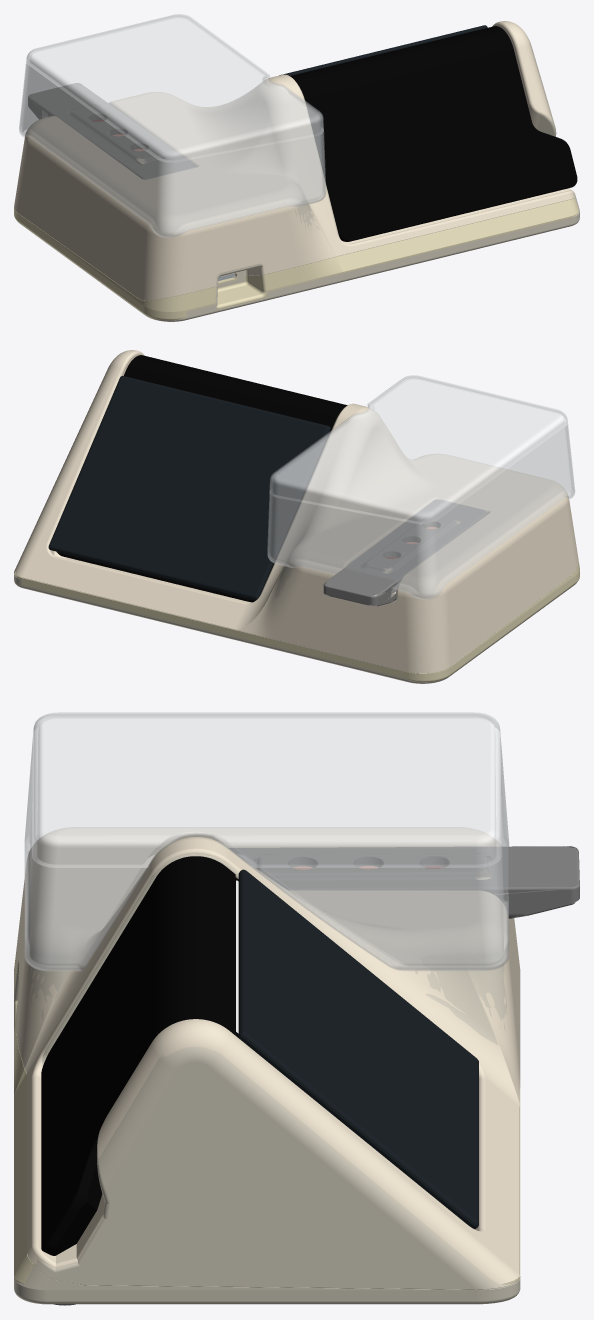
Rendered from sangre-display.glb.
3 renders of one model, top to bottom at view 1: azimuth 30°, elevation 25°; view 2: azimuth 150°, elevation 25°; view 3: azimuth 270°, elevation 25°, orthographic. The views are drawn at different scales.
Parts seen in each view (by area): view 1: outer-shell, internal-storage-cover, exterior-12, storage-lid, storage-tray, base-shell, exterior-20, test-strip-4, internal-lower-shell, internal-upper-shell, display-upper-bezel; view 2: outer-shell, internal-storage-cover, display-upper-bezel, storage-lid, storage-tray, test-strip-4, exterior-20, base-shell, internal-lower-shell, display-lower-bezel, internal-upper-shell; view 3: internal-storage-cover, outer-shell, storage-lid, internal-upper-shell, display-upper-bezel, storage-tray, exterior-12, test-strip-4, exterior-20, internal-lower-shell, base-shell, exterior-10.
Boxes of the visible parts, bbox=[...] form: outer-shell: bbox=[14, 21, 574, 300]; internal-storage-cover: bbox=[20, 14, 325, 236]; exterior-12: bbox=[307, 57, 577, 241]; storage-lid: bbox=[26, 15, 322, 162]; storage-tray: bbox=[19, 60, 325, 237]; base-shell: bbox=[14, 198, 578, 320]; exterior-20: bbox=[290, 26, 515, 107]; test-strip-4: bbox=[28, 83, 195, 179]; internal-lower-shell: bbox=[17, 199, 579, 321]; internal-upper-shell: bbox=[216, 40, 576, 287]; display-upper-bezel: bbox=[279, 25, 487, 75]; outer-shell: bbox=[15, 350, 578, 673]; internal-storage-cover: bbox=[267, 375, 574, 598]; display-upper-bezel: bbox=[48, 376, 330, 600]; storage-lid: bbox=[270, 376, 567, 523]; storage-tray: bbox=[268, 422, 574, 599]; test-strip-4: bbox=[323, 500, 487, 606]; exterior-20: bbox=[124, 355, 347, 428]; base-shell: bbox=[15, 559, 579, 681]; internal-lower-shell: bbox=[14, 571, 576, 683]; display-lower-bezel: bbox=[57, 428, 331, 602]; internal-upper-shell: bbox=[14, 365, 397, 603]; internal-storage-cover: bbox=[25, 712, 508, 969]; outer-shell: bbox=[16, 827, 520, 1284]; storage-lid: bbox=[33, 714, 501, 867]; internal-upper-shell: bbox=[16, 854, 517, 1289]; display-upper-bezel: bbox=[238, 869, 478, 1228]; storage-tray: bbox=[25, 743, 508, 970]; exterior-12: bbox=[41, 888, 149, 1251]; test-strip-4: bbox=[229, 846, 579, 918]; exterior-20: bbox=[149, 856, 235, 1045]; internal-lower-shell: bbox=[14, 973, 520, 1304]; base-shell: bbox=[14, 949, 520, 1284]; exterior-10: bbox=[43, 1144, 102, 1255].
Size of the model in its own units: 0.1586 by 0.0595 by 0.1118.
Materials: 26 (3 with a texture image).
